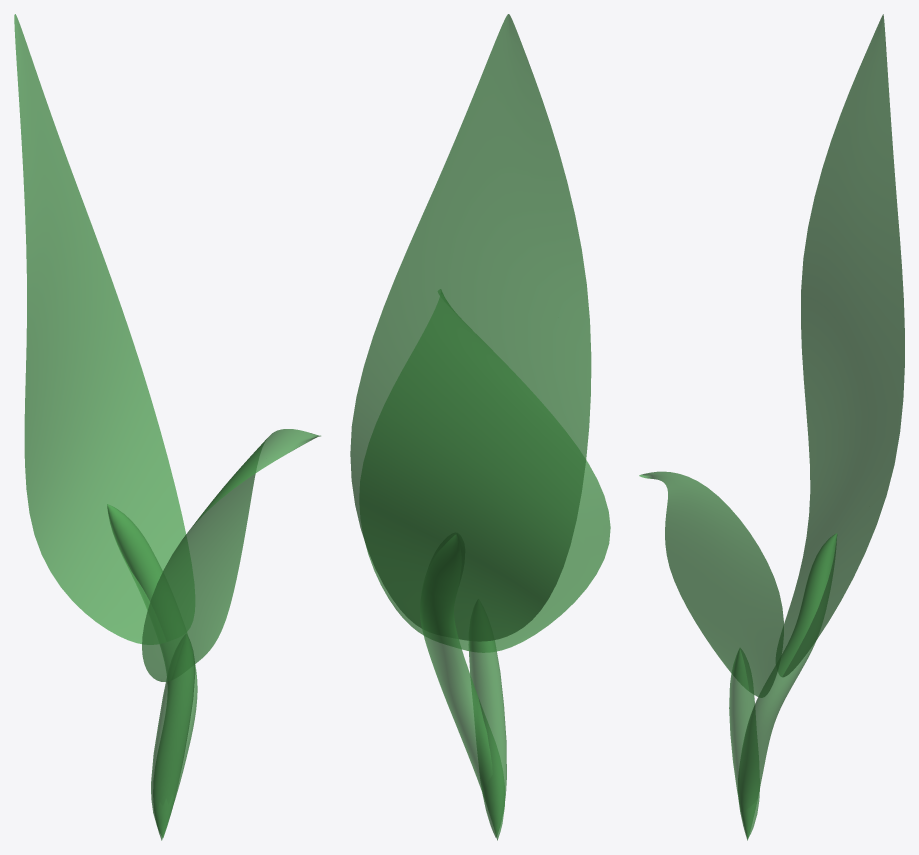
The model's file is plant001.glb.
3 renders of one model, left to right at view 1: azimuth 30°, elevation 25°; view 2: azimuth 150°, elevation 25°; view 3: azimuth 270°, elevation 25°, orthographic. The views are drawn at different scales.
Visible parts, largest first — view 1: s.0022, s.0024, s.0050, s.0048; view 2: s.0022, s.0024, s.0050, s.0048; view 3: s.0022, s.0024, s.0050, s.0048.
Boxes of the visible parts, left/top/right/bottom form: s.0022: left=14, top=14, right=194, bottom=644; s.0024: left=142, top=429, right=320, bottom=681; s.0050: left=107, top=504, right=197, bottom=840; s.0048: left=151, top=634, right=195, bottom=837; s.0022: left=350, top=14, right=591, bottom=641; s.0024: left=360, top=289, right=610, bottom=652; s.0050: left=420, top=533, right=504, bottom=840; s.0048: left=469, top=599, right=506, bottom=837; s.0022: left=776, top=14, right=904, bottom=677; s.0024: left=639, top=471, right=783, bottom=697; s.0050: left=738, top=533, right=837, bottom=840; s.0048: left=729, top=648, right=759, bottom=838.
Bounding box in the file's own units: 0.054 × 0.1906 × 0.0582.
